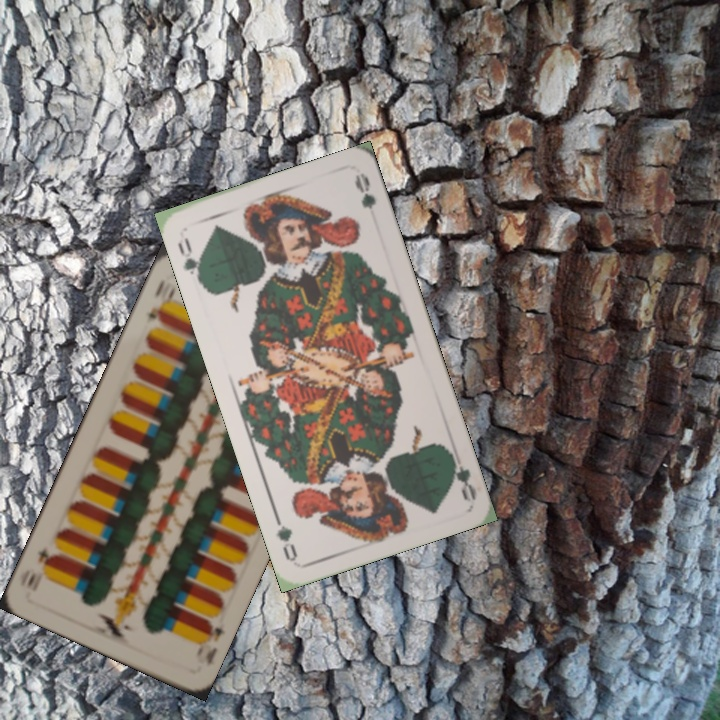E10: (191, 615, 227, 667), (144, 274, 179, 327)
GO: (444, 446, 479, 503), (173, 233, 204, 287)
